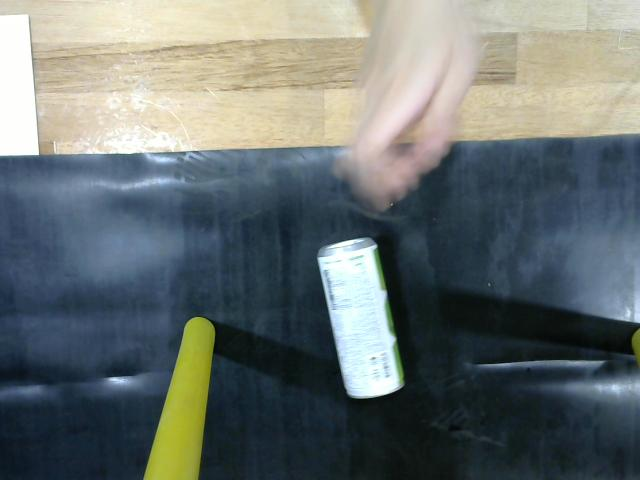can: (310, 226, 414, 411)
